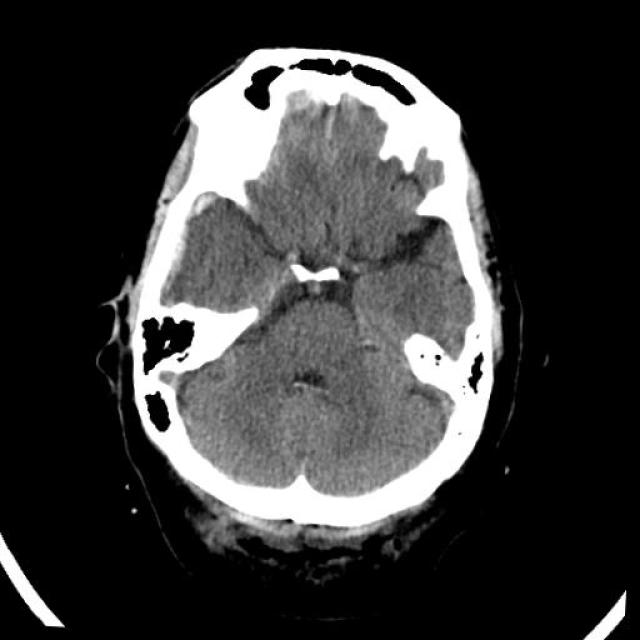Subarachnoid: (276, 83, 342, 159)
Subdural: (156, 220, 199, 301)
